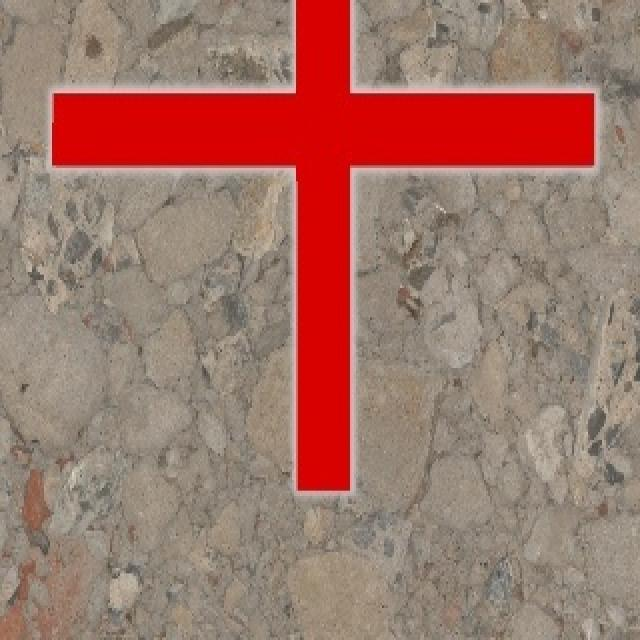x_marker: (51, 0, 595, 491)
